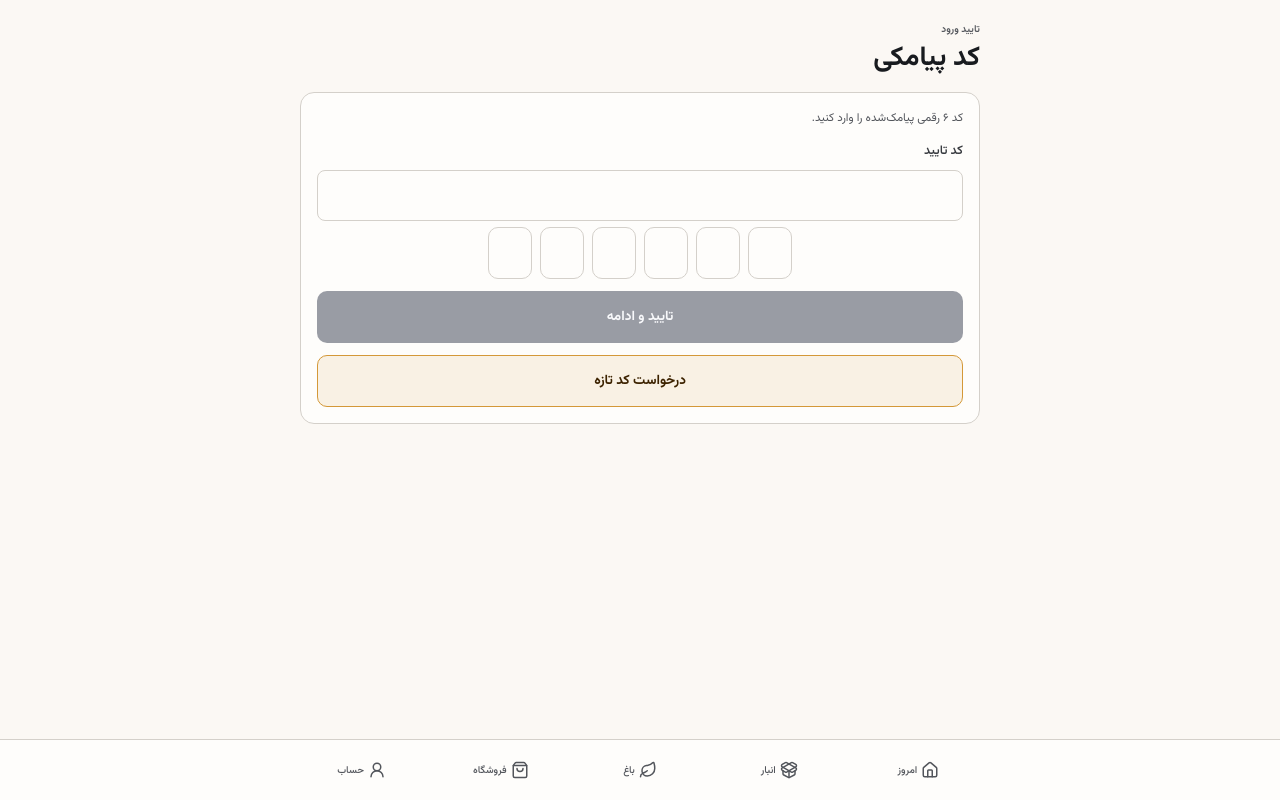
canonical T8 onboarding forms › shows a distinct inline banner for OTP expired without exposing tokens
In the field labelled "کد تایید": (640, 196) [317,170,963,221], type "123456"
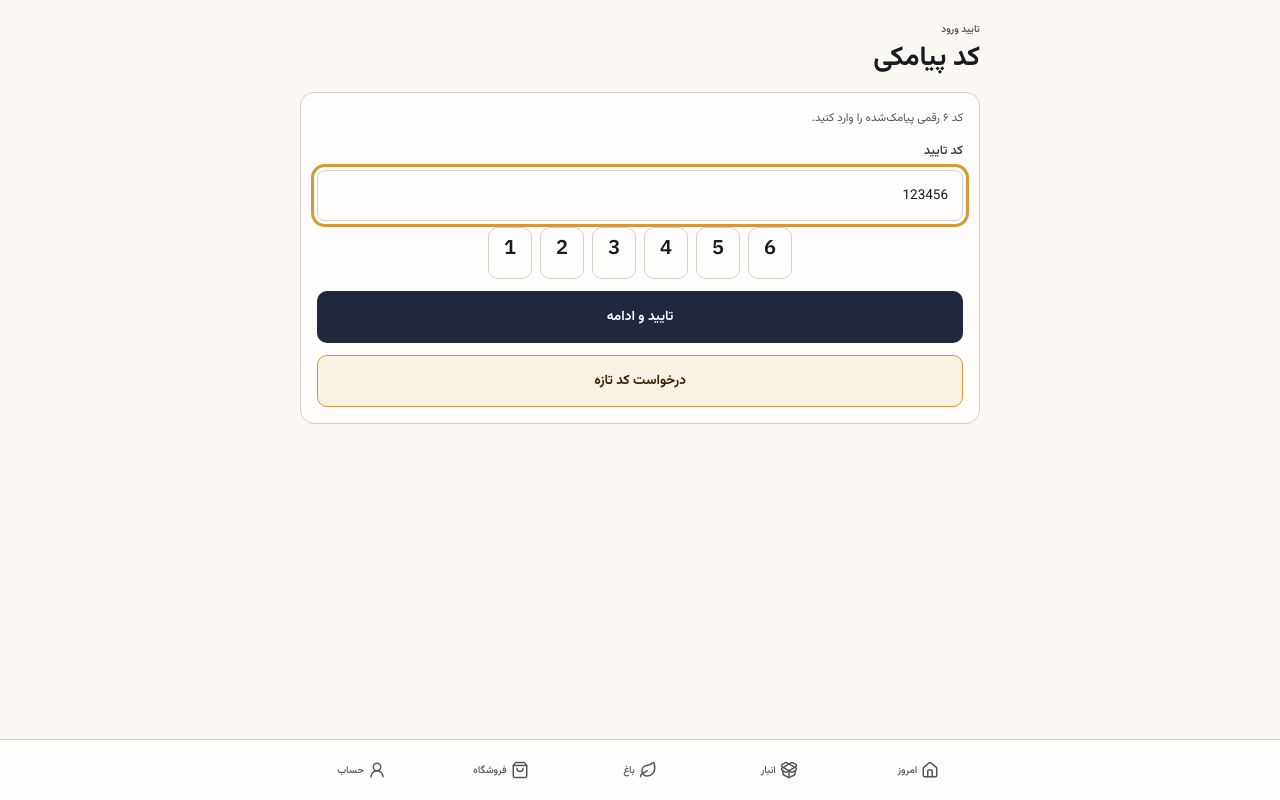
Click the button "تایید و ادامه": (640, 317) [317,291,963,343]
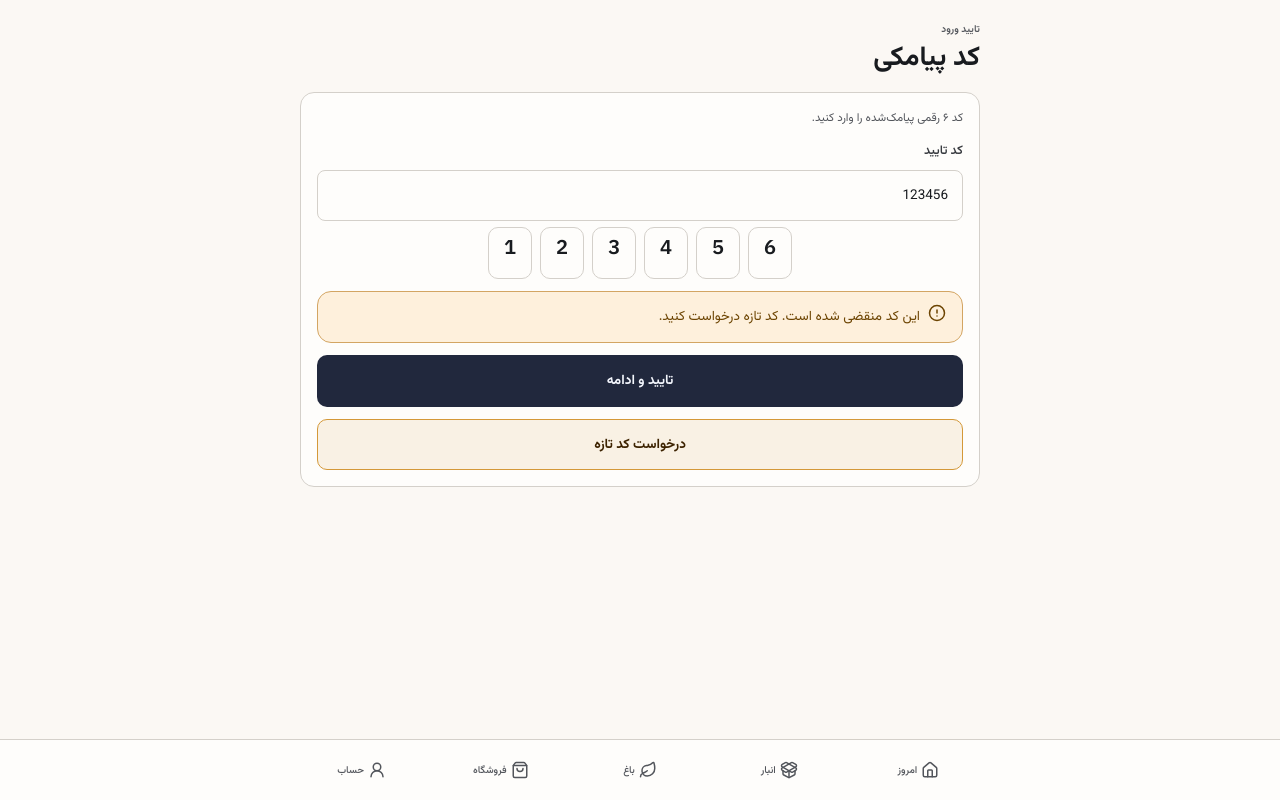
Expected: the text "این کد منقضی شده است. کد تازه درخواست کنید." is shown, [659,304,920,330]
